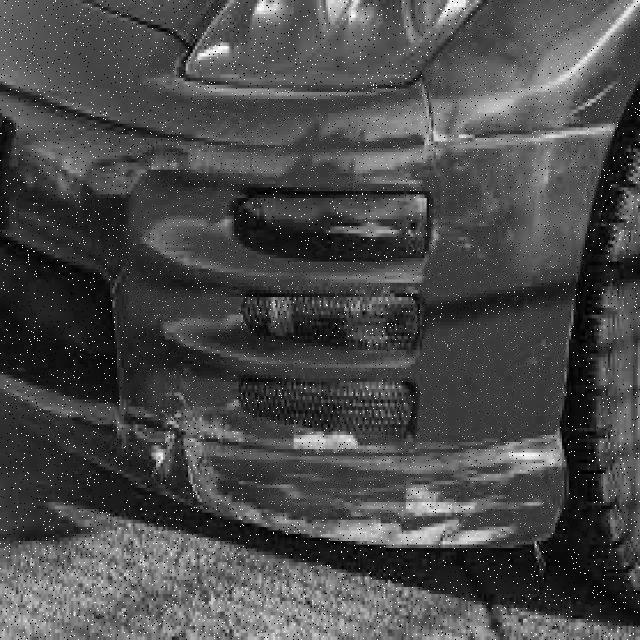front-bumper-dent: (0, 99, 628, 551)
